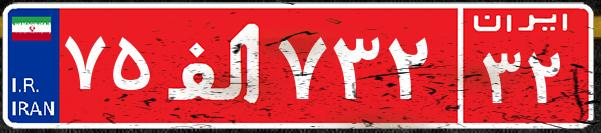2: (385, 28, 445, 110), (525, 38, 570, 115)
3: (330, 28, 385, 110), (475, 38, 525, 113)
5: (110, 28, 158, 105)
7: (273, 28, 330, 110), (57, 26, 110, 107)
الف: (158, 15, 273, 115)
